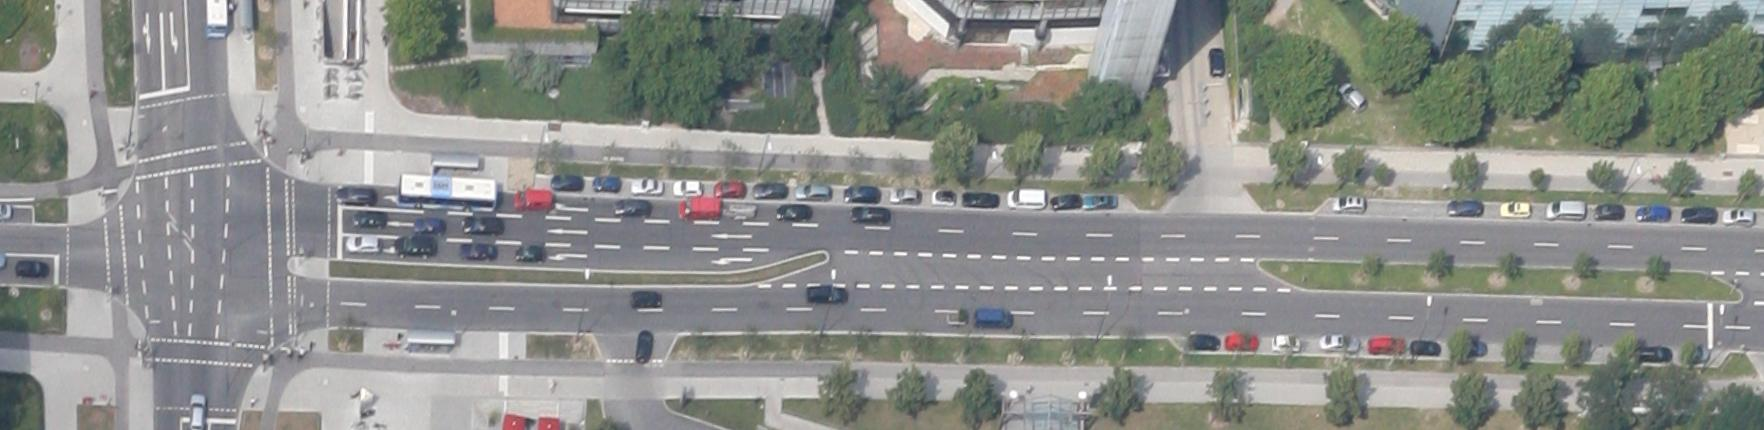car: (1335, 81, 1368, 113), (396, 234, 435, 258), (514, 188, 552, 212), (1546, 199, 1584, 222), (679, 198, 719, 220), (336, 185, 375, 206), (1008, 187, 1044, 209), (462, 216, 503, 235), (844, 183, 881, 204), (807, 287, 847, 305), (1318, 334, 1359, 352), (849, 206, 889, 224), (633, 330, 654, 365), (974, 308, 1012, 326), (459, 243, 497, 261), (614, 199, 651, 217), (1368, 337, 1405, 355), (1680, 206, 1716, 224), (1447, 199, 1483, 217), (16, 260, 49, 279), (346, 234, 380, 253), (352, 210, 387, 229), (1331, 195, 1365, 213), (963, 191, 999, 208), (776, 204, 811, 221), (1635, 205, 1669, 222), (1637, 344, 1669, 362), (1721, 207, 1754, 225), (189, 393, 205, 429), (1225, 333, 1258, 350), (753, 182, 785, 199), (630, 178, 663, 195), (1083, 194, 1118, 209), (714, 180, 745, 198), (1188, 333, 1219, 350), (795, 183, 829, 199), (630, 292, 661, 308), (1271, 334, 1300, 352), (515, 245, 546, 262), (1593, 204, 1623, 221), (1500, 200, 1530, 217), (551, 174, 582, 191), (414, 217, 442, 235), (1052, 192, 1080, 210), (673, 179, 701, 197), (1208, 48, 1225, 78), (729, 203, 755, 221), (1411, 340, 1440, 356), (890, 188, 919, 204), (593, 176, 620, 192), (931, 188, 954, 206), (945, 311, 967, 326)
